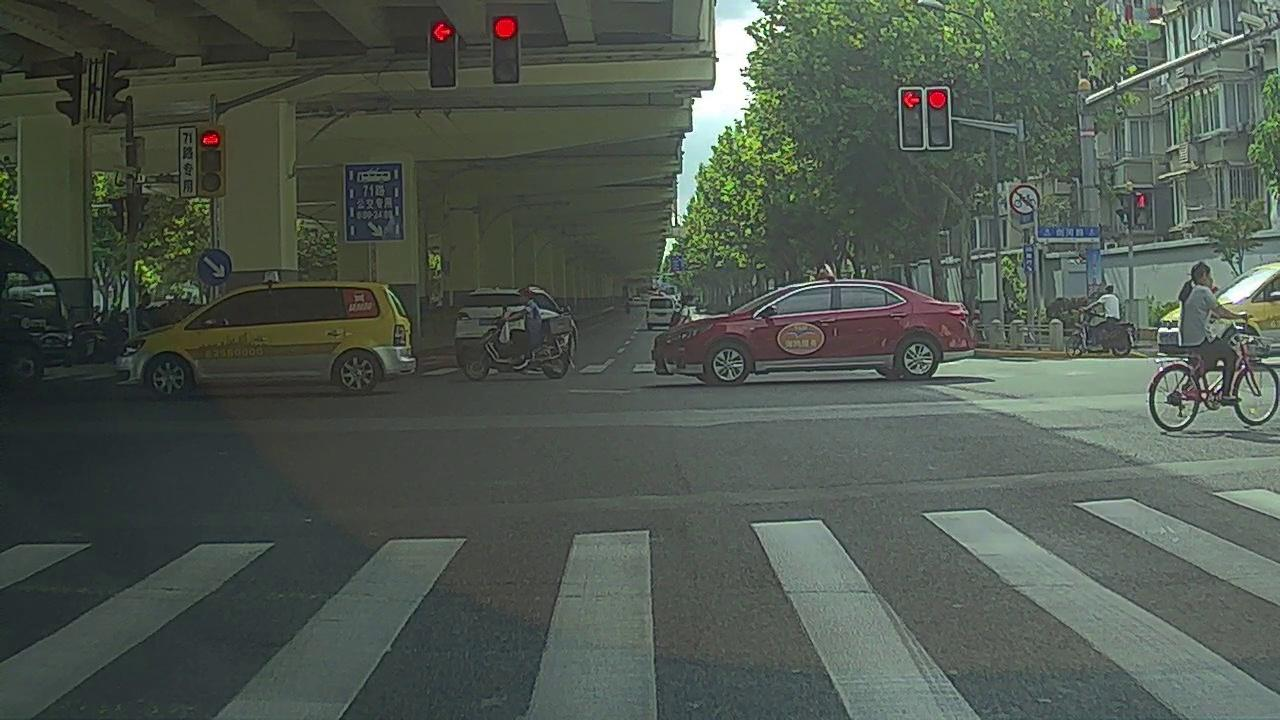traffic_light: (493, 16, 519, 83), (430, 21, 455, 87), (927, 89, 949, 147), (901, 90, 922, 147)
